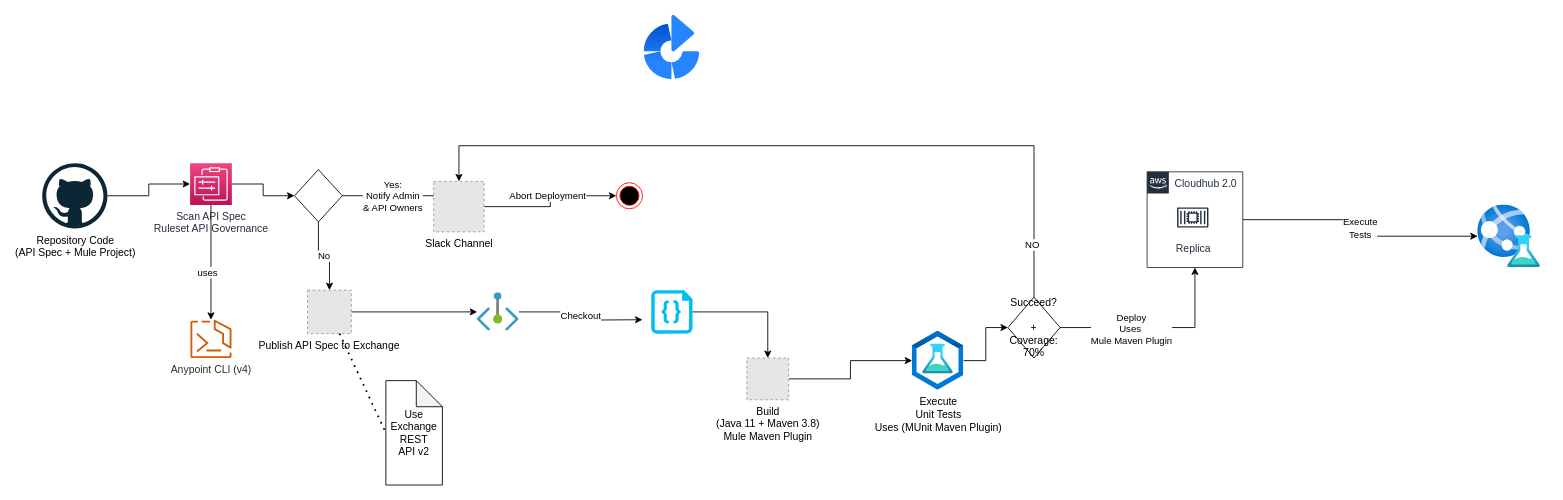
The diagram is 1563 pixels wide and 500 high, and some of its shapes have lost their labels. Grey dashed boxes stand in for pictures. Each missing label, with the centre of its shape:
"AT least 1 alert" belongs at pixel 318 195.
"CI/CD Server (Bamboo)" belongs at pixel 671 47.
"Codebase Mule App" belongs at pixel 671 311.
"Integration Tests (BAT CLI )" belongs at pixel 1508 235.
"Invoke Test Suite Mocking Service" belongs at pixel 498 311.
